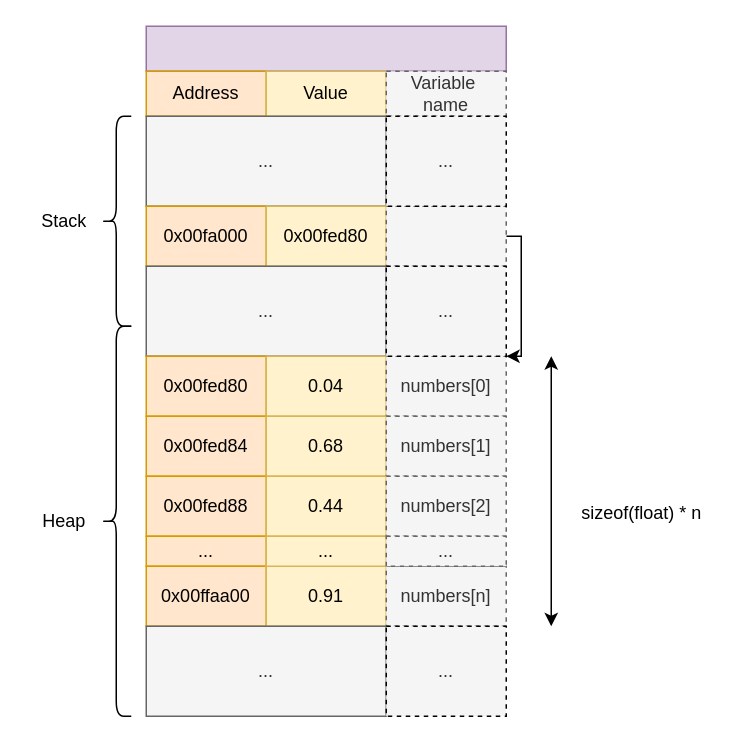
This 741x743 diagram has some shape labels left out. Here are the shapes that lost their labels. From the top down, the centre of each, then its label:
the point at 325,48: Memory
the point at 445,235: numbers
